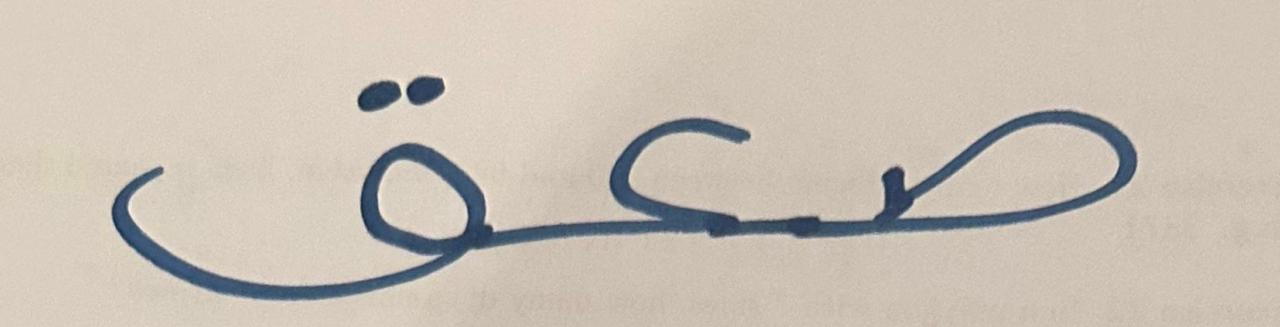ain: (524, 36, 847, 280)
reh: (78, 30, 521, 309)
seen: (851, 65, 1201, 281)
